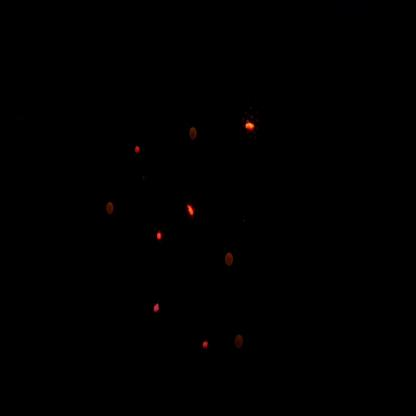PET: (198, 329, 217, 364), (130, 136, 150, 168), (147, 295, 169, 324)
PS: (103, 194, 119, 222), (233, 329, 248, 354), (187, 119, 201, 145), (223, 247, 238, 270)
PVC: (238, 103, 266, 140), (180, 199, 200, 228), (154, 223, 169, 247)
